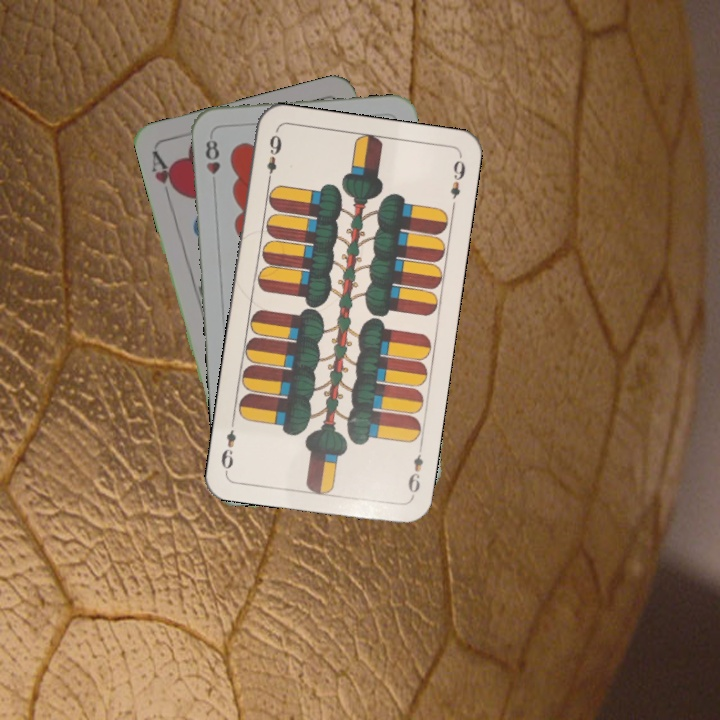E9: (404, 442, 426, 500), (262, 131, 284, 187)
H8: (201, 136, 223, 190)
HA: (147, 147, 182, 199)
